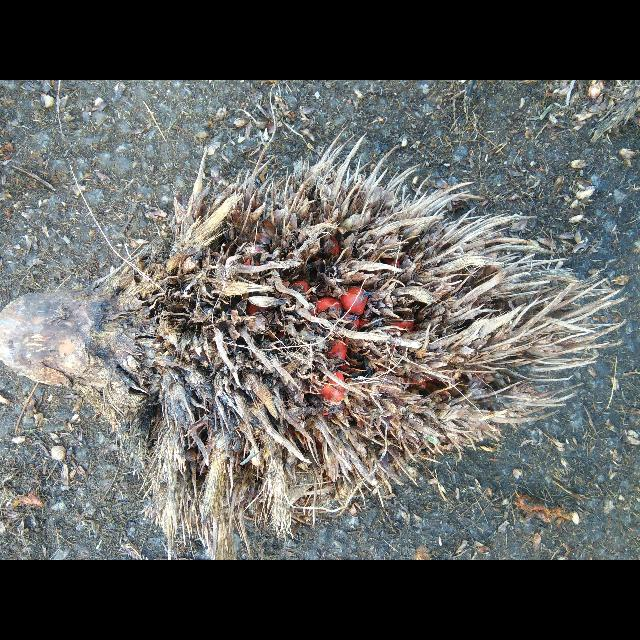Overripe: (0, 143, 628, 558)
